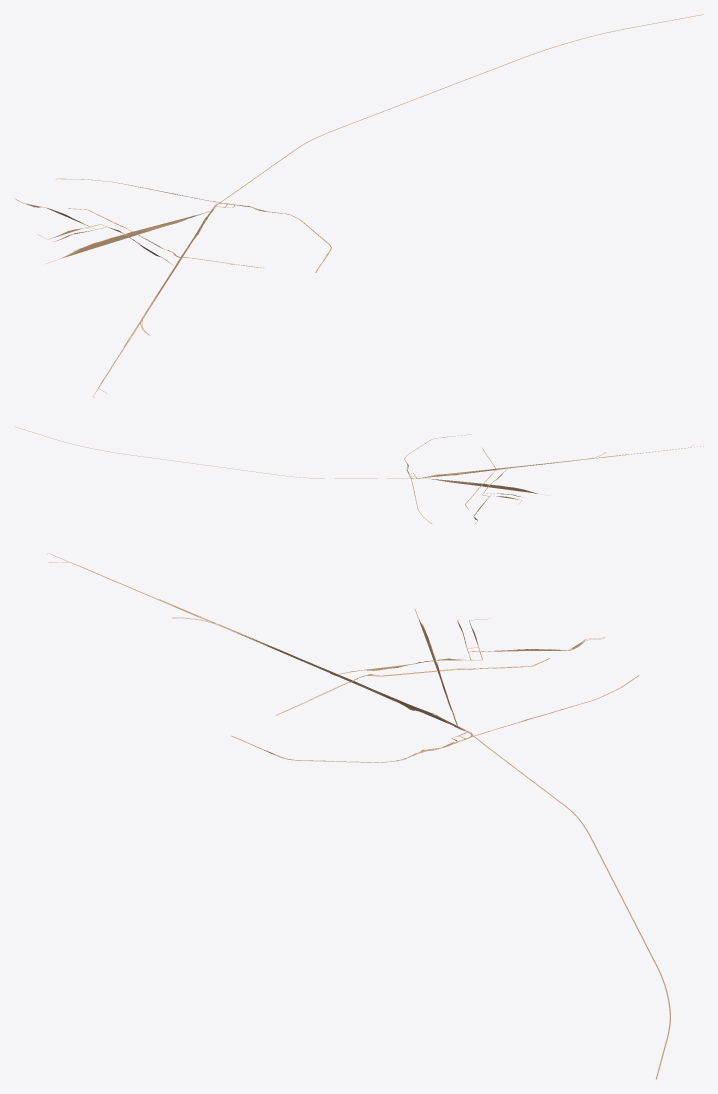
The model's file is rail.glb.
The picture shows the model from 3 angles, top to bottom: view 1: azimuth 30°, elevation 25°; view 2: azimuth 150°, elevation 25°; view 3: azimuth 270°, elevation 25°; orthographic projection. The views are drawn at different scales.
Visible parts, largest first — view 1: rail; view 2: rail; view 3: rail.
Boxes of the visible parts, <box> form: rail: <box>14,14,703,397</box>; rail: <box>14,426,703,524</box>; rail: <box>47,553,670,1079</box>.
Size of the model in its own units: 10483 by 127 by 5269.
